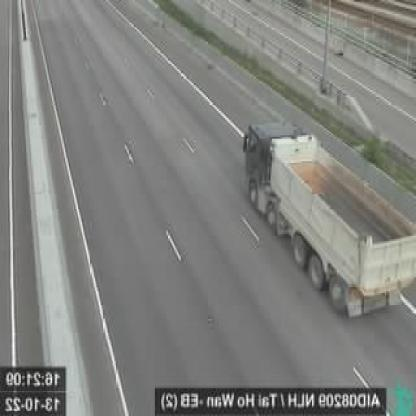Truck: (244, 118, 410, 321)
